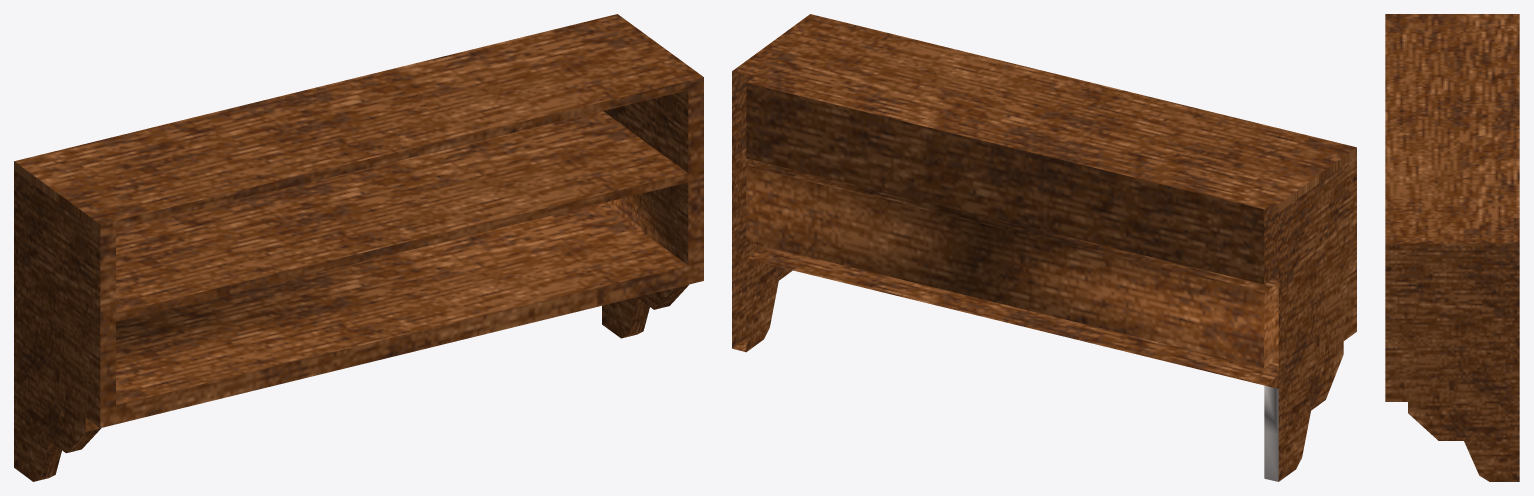
File: SM_Dungeon_Shelf_Wooden_Double.fbx
The picture shows the model from 3 angles, left to right: view 1: azimuth 30°, elevation 25°; view 2: azimuth 150°, elevation 25°; view 3: azimuth 270°, elevation 25°; orthographic projection. The views are drawn at different scales.
Parts seen in each view (by area): view 1: SM_Dungeon_Shelf_Wooden_Double; view 2: SM_Dungeon_Shelf_Wooden_Double; view 3: SM_Dungeon_Shelf_Wooden_Double.
Boxes of the visible parts, left/top/right/bottom form: SM_Dungeon_Shelf_Wooden_Double: left=14, top=14, right=703, bottom=481; SM_Dungeon_Shelf_Wooden_Double: left=732, top=14, right=1356, bottom=481; SM_Dungeon_Shelf_Wooden_Double: left=1385, top=14, right=1519, bottom=481.
Bounding box in the file's own units: 185 × 89.61 × 45.74.
